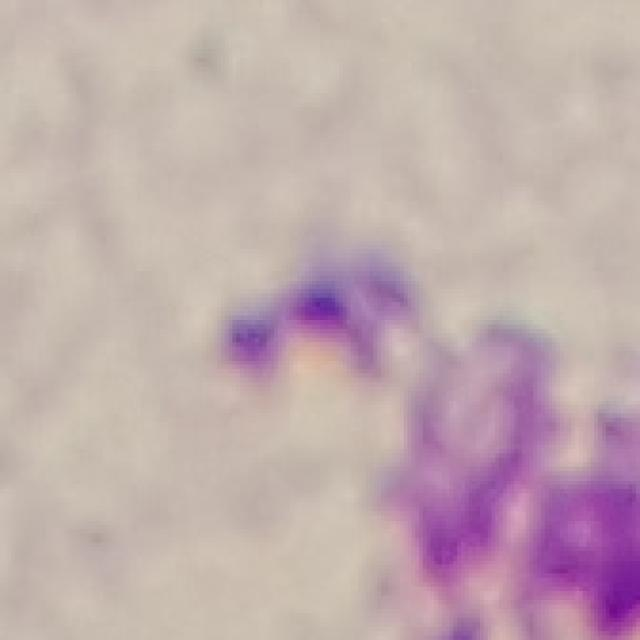non-sperm: (291, 258, 640, 640)
